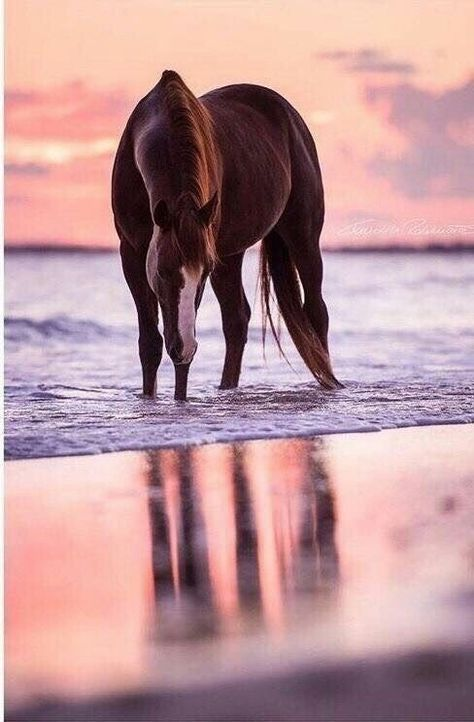Horse: (110, 61, 344, 412)
